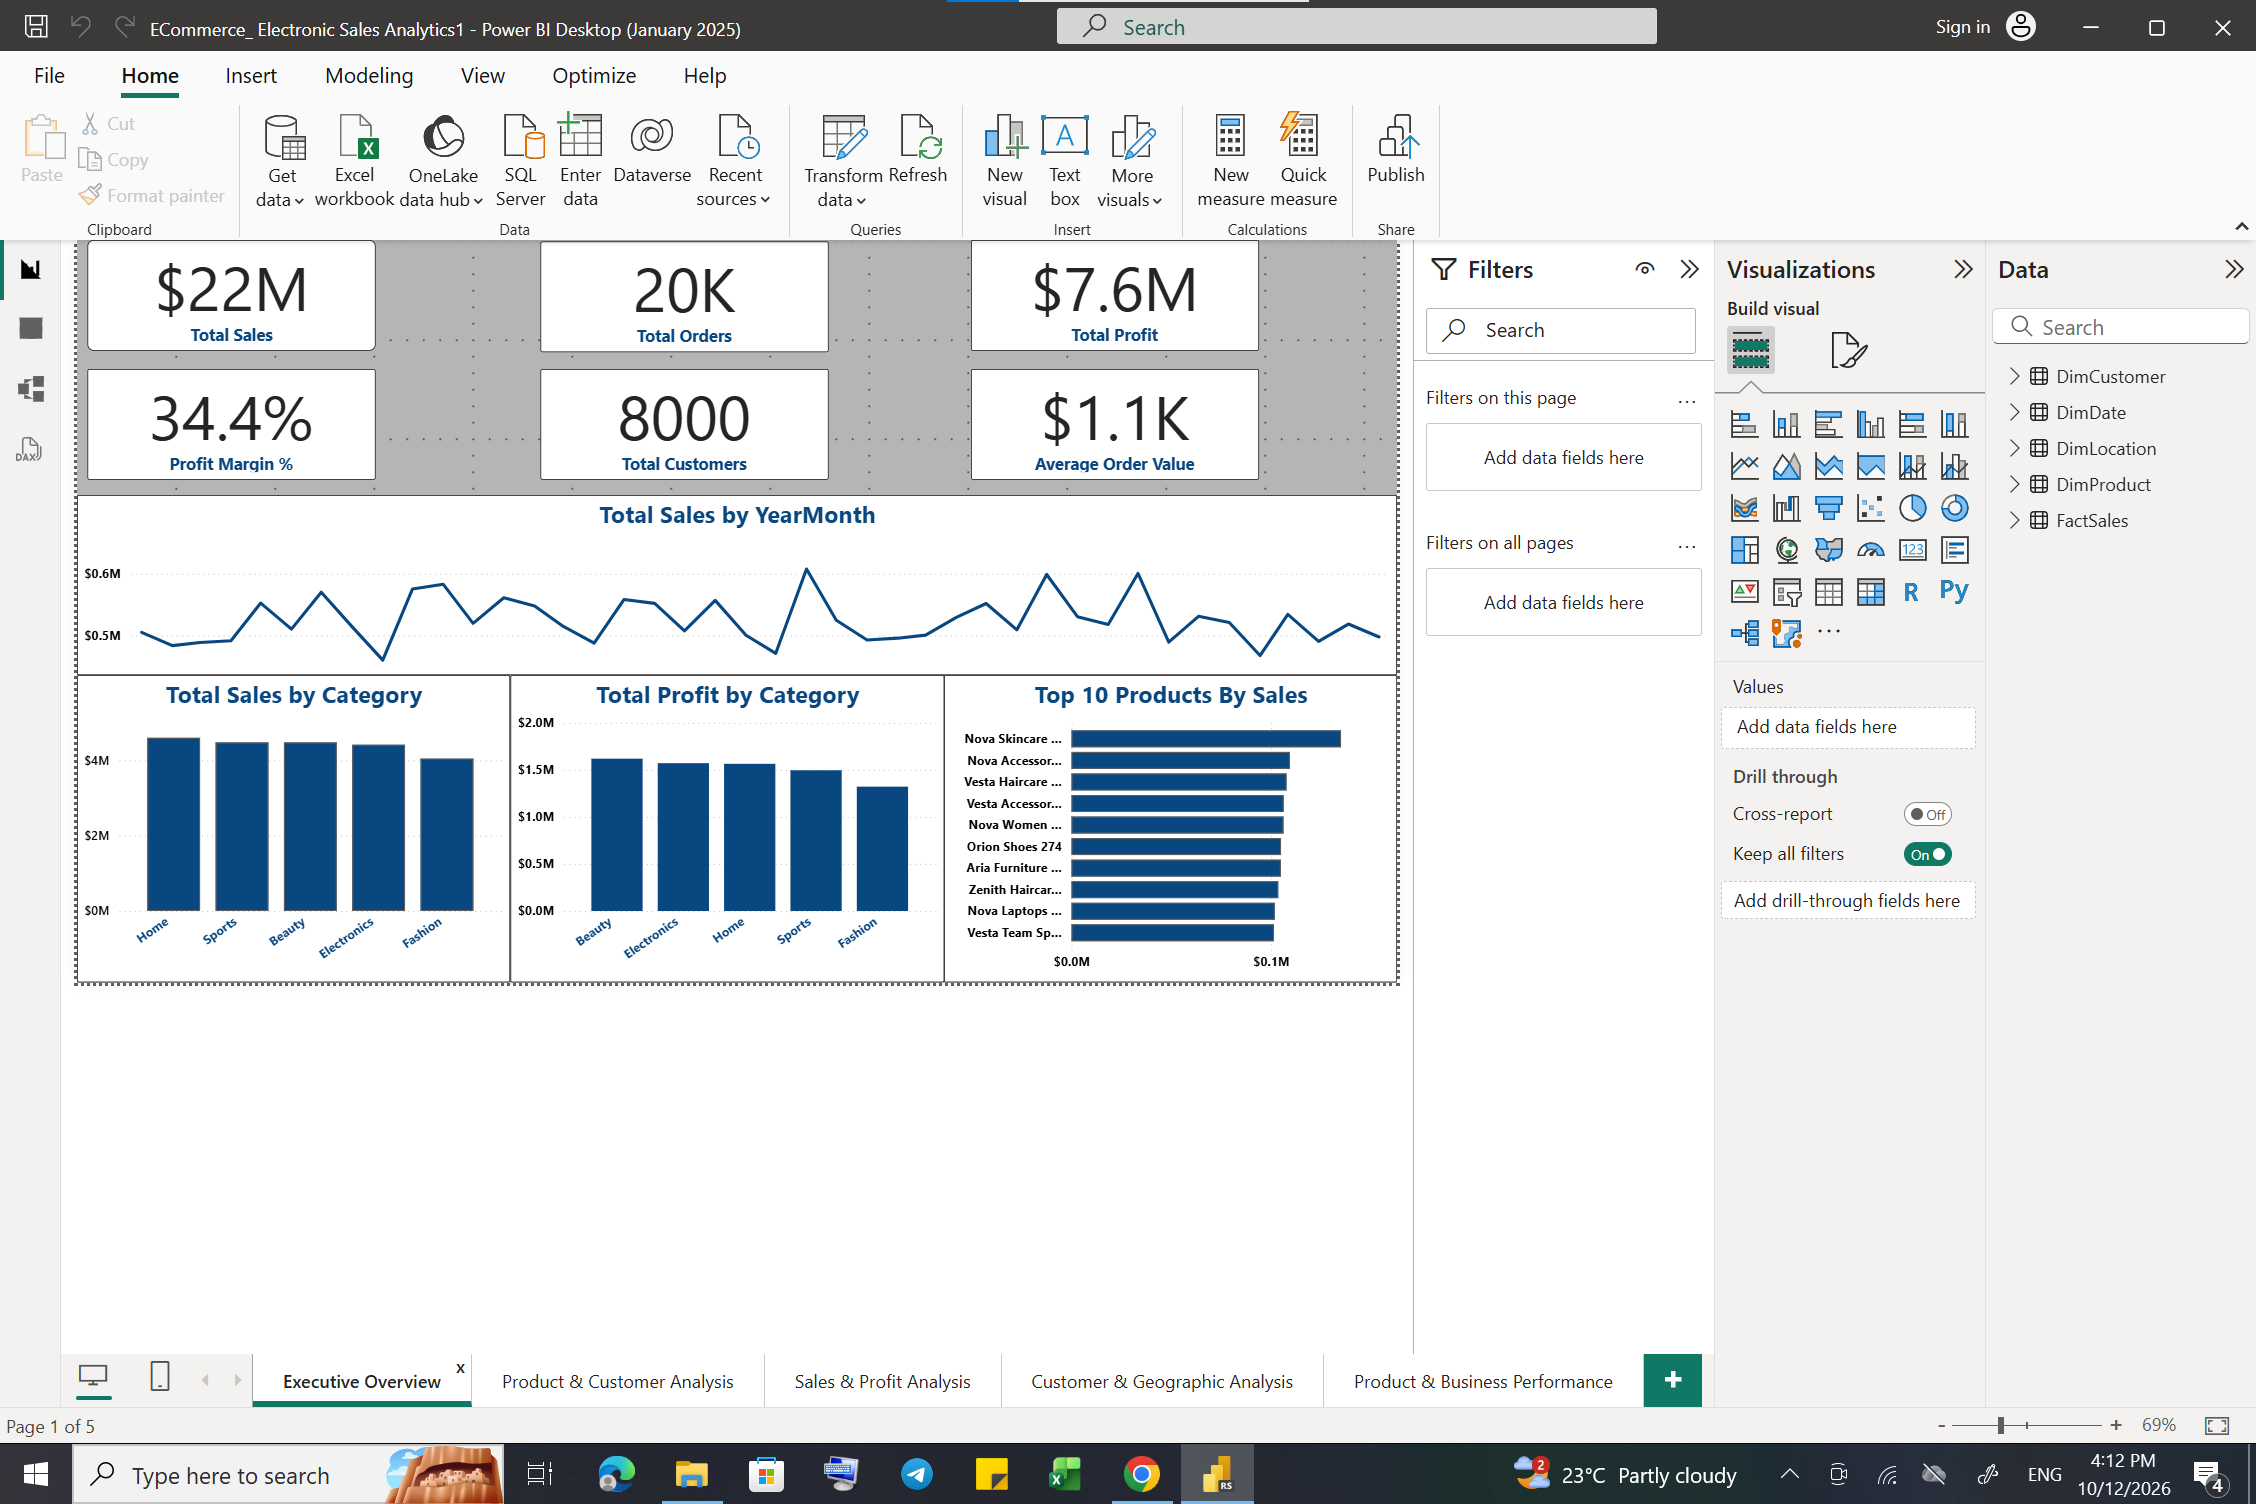

This screenshot's page, from the dashboard's own definition file:
{"tool":"powerbi","page":{"name":"Executive Overview","canvas":[1280,720],"ordinal":0},"visuals":[{"type":"card","fields":{"Values":["FactSales.Total Sales"]},"box":[10.2,0,279.3,107],"z":0},{"type":"card","fields":{"Values":["FactSales.Total Profit"]},"box":[866.9,0,279.3,107],"z":1000},{"type":"card","fields":{"Values":["FactSales.Profit Margin %"]},"box":[10.2,125.1,279.3,107.6],"z":2000},{"type":"card","fields":{"Values":["FactSales.Total Orders"]},"box":[449.5,1.5,279.3,107],"z":3000},{"type":"card","fields":{"Values":["DimCustomer.Total Customers"]},"box":[449.5,125.1,279.3,107.6],"z":4000},{"type":"card","fields":{"Values":["FactSales.Average Order Value"]},"box":[866.9,125.1,279.3,107.6],"z":5000},{"type":"lineChart","fields":{"Y":["FactSales.Total Sales"],"Category":["DimDate.YearMonth"]},"box":[0,247.3,1280,174.5],"z":6000},{"type":"clusteredColumnChart","fields":{"Category":["DimProduct.Category"],"Y":["FactSales.Total Sales"]},"box":[0,421.8,420,298.2],"z":7000},{"type":"clusteredColumnChart","fields":{"Category":["DimProduct.Category"],"Y":["FactSales.Total Profit"]},"box":[420.4,421.8,420.4,298.2],"z":8000},{"type":"clusteredBarChart","title":"Top 10 Products By Sales","fields":{"Category":["DimProduct.ProductName"],"Y":["FactSales.Total Sales"]},"box":[840.7,421.8,439.3,298.2],"z":9000}]}

Visuals, with their boxes on the page's 1280x720 design canvas (x1, y1, x2, y2). These are canvas units, not pixel positions in the 2256x1504 screenshot, which may show the page scaled, cropped or inside an application window:
card - FactSales.Total Sales: <box>10,0,290,107</box>
card - FactSales.Total Profit: <box>867,0,1146,107</box>
card - FactSales.Profit Margin %: <box>10,125,290,233</box>
card - FactSales.Total Orders: <box>450,2,729,108</box>
card - DimCustomer.Total Customers: <box>450,125,729,233</box>
card - FactSales.Average Order Value: <box>867,125,1146,233</box>
lineChart - FactSales.Total Sales x DimDate.YearMonth: <box>0,247,1280,422</box>
clusteredColumnChart - DimProduct.Category x FactSales.Total Sales: <box>0,422,420,720</box>
clusteredColumnChart - DimProduct.Category x FactSales.Total Profit: <box>420,422,841,720</box>
"Top 10 Products By Sales" clusteredBarChart: <box>841,422,1280,720</box>
